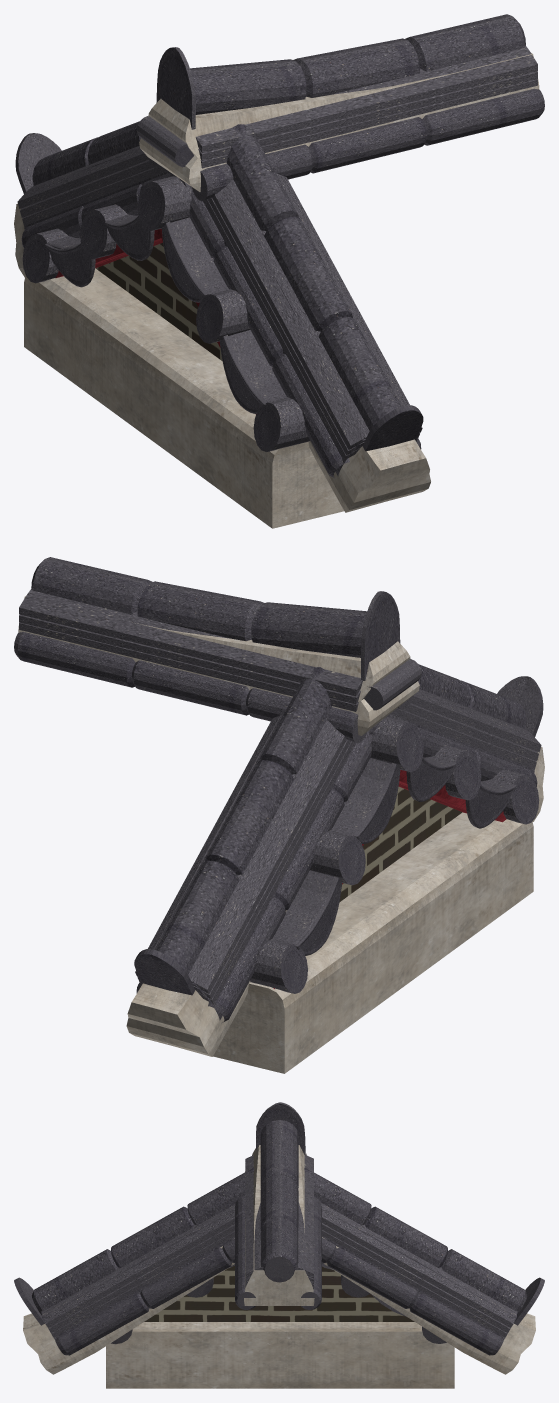
File: SM_R_RoofOuter_16.fbx
The picture shows the model from 3 angles, top to bottom: view 1: azimuth 30°, elevation 25°; view 2: azimuth 150°, elevation 25°; view 3: azimuth 270°, elevation 25°; orthographic projection. The views are drawn at different scales.
Visible parts, largest first — view 1: SM_R_RoofOuter_16; view 2: SM_R_RoofOuter_16; view 3: SM_R_RoofOuter_16.
Boxes of the visible parts, bbox=[...] form: SM_R_RoofOuter_16: bbox=[14, 14, 544, 528]; SM_R_RoofOuter_16: bbox=[14, 557, 544, 1073]; SM_R_RoofOuter_16: bbox=[14, 1102, 544, 1388].
Size of the model in its own units: 148 by 261 by 146.
Materials: 3 (3 with a texture image).
